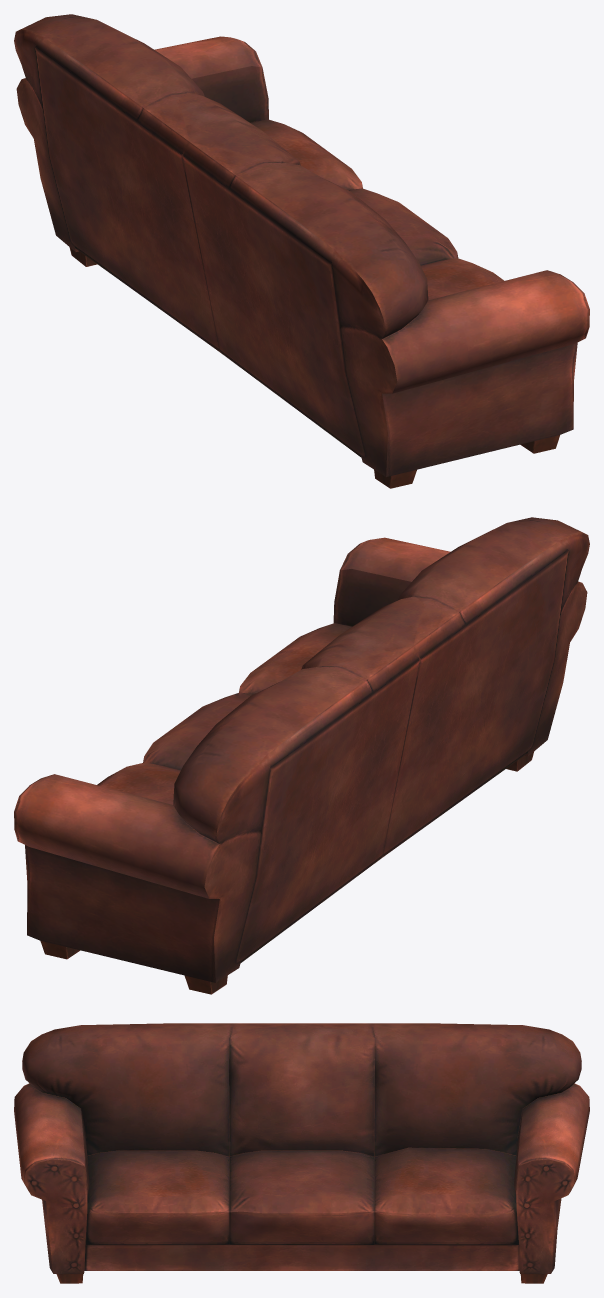
Rendered from sofa.glb.
3 renders of one model, top to bottom at view 1: azimuth 30°, elevation 25°; view 2: azimuth 150°, elevation 25°; view 3: azimuth 270°, elevation 25°, orthographic. The views are drawn at different scales.
Parts seen in each view (by area): view 1: Object_2; view 2: Object_2; view 3: Object_2.
Part boxes in pixels (x1=…): Object_2: x1=14, y1=14, x2=589, y2=488; Object_2: x1=14, y1=517, x2=589, y2=994; Object_2: x1=14, y1=1023, x2=589, y2=1283.
Size of the model in its own units: 104 by 101 by 279.
Materials: 1 (1 with a texture image).
